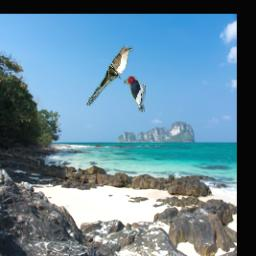Cuckoo: (85, 46, 133, 108)
Woodpecker: (125, 77, 147, 113)
